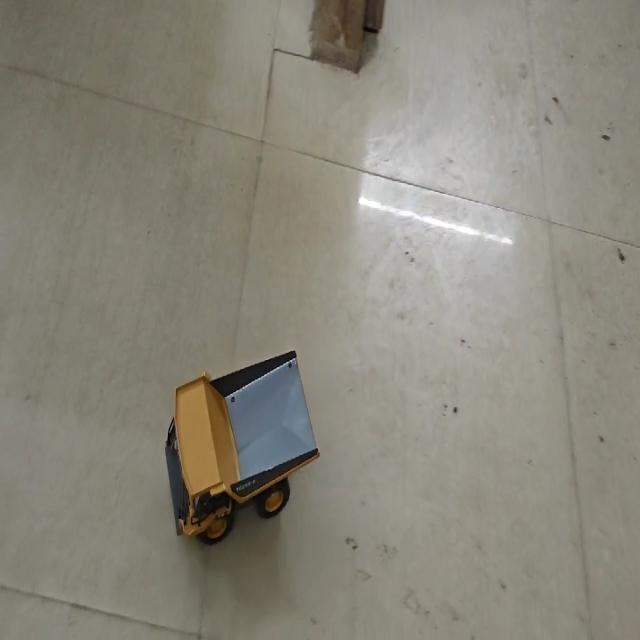dump_truck: (154, 348, 317, 527)
